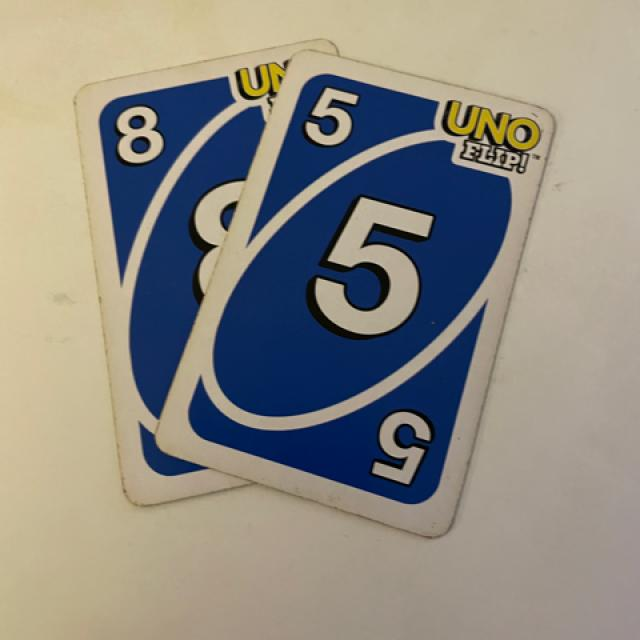lblue-5: (295, 72, 372, 166)
lblue-8: (101, 88, 186, 178)
